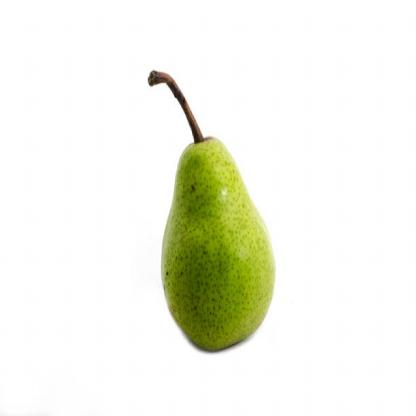Paer: (142, 65, 288, 356)
